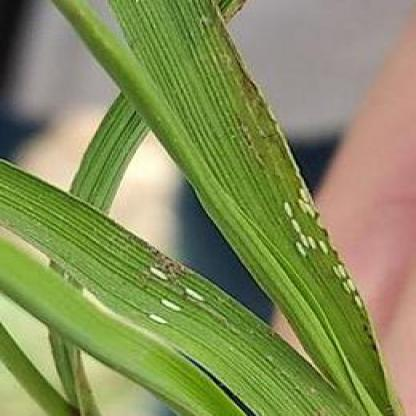whorl-maggot: (140, 259, 176, 289), (158, 292, 188, 317), (180, 283, 210, 304), (148, 312, 174, 332), (277, 197, 295, 220), (338, 279, 360, 295), (293, 238, 308, 261), (352, 296, 371, 314), (298, 186, 316, 204), (318, 238, 334, 258), (284, 221, 306, 235), (334, 264, 350, 279)
